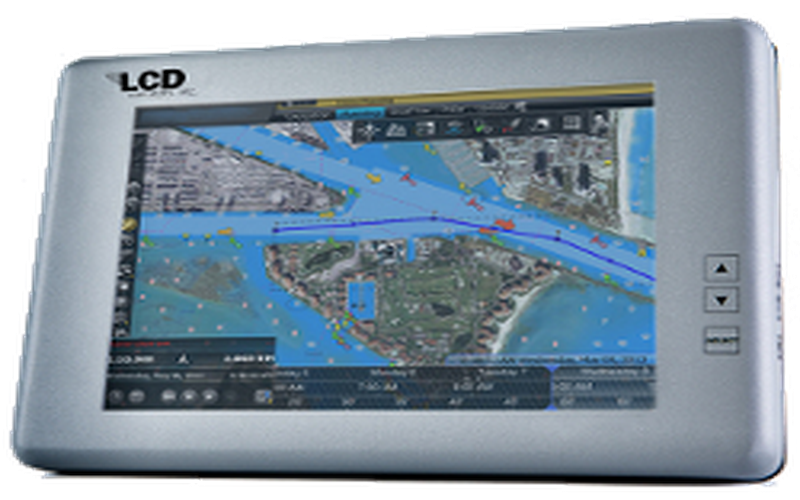LCD: (108, 77, 667, 423)
